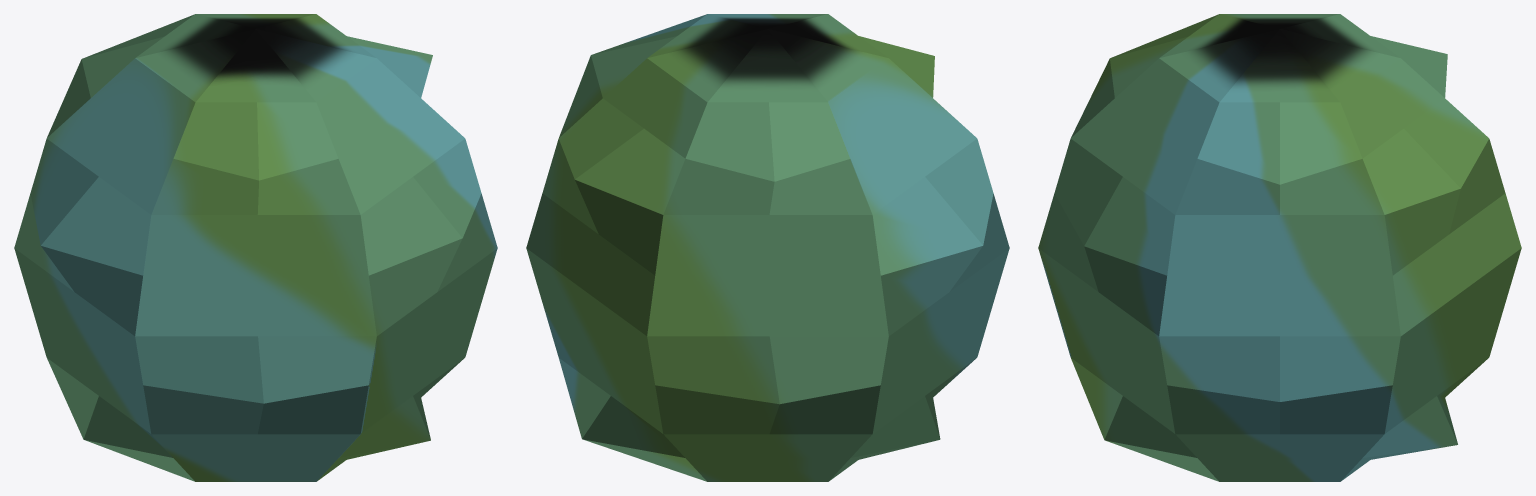
Rendered from nave02.fbx.
3 views of the same model, side by side, from view 1: azimuth 30°, elevation 25°; view 2: azimuth 150°, elevation 25°; view 3: azimuth 270°, elevation 25° (orthographic).
Parts seen in each view (by area): view 1: nave02; view 2: nave02; view 3: nave02.
Boxes of the visible parts, x1=… form: nave02: x1=14, y1=14, x2=497, y2=481; nave02: x1=526, y1=14, x2=1009, y2=481; nave02: x1=1038, y1=14, x2=1521, y2=481.
Bounding box in the file's own units: 200 × 200 × 200.
